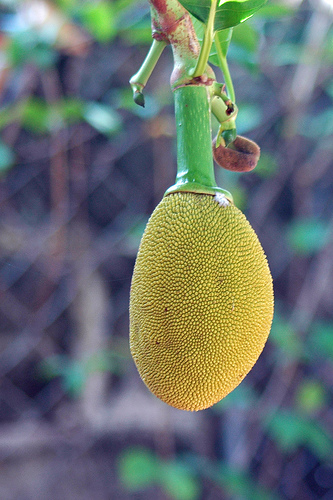jackfruit: (128, 85, 272, 412)
